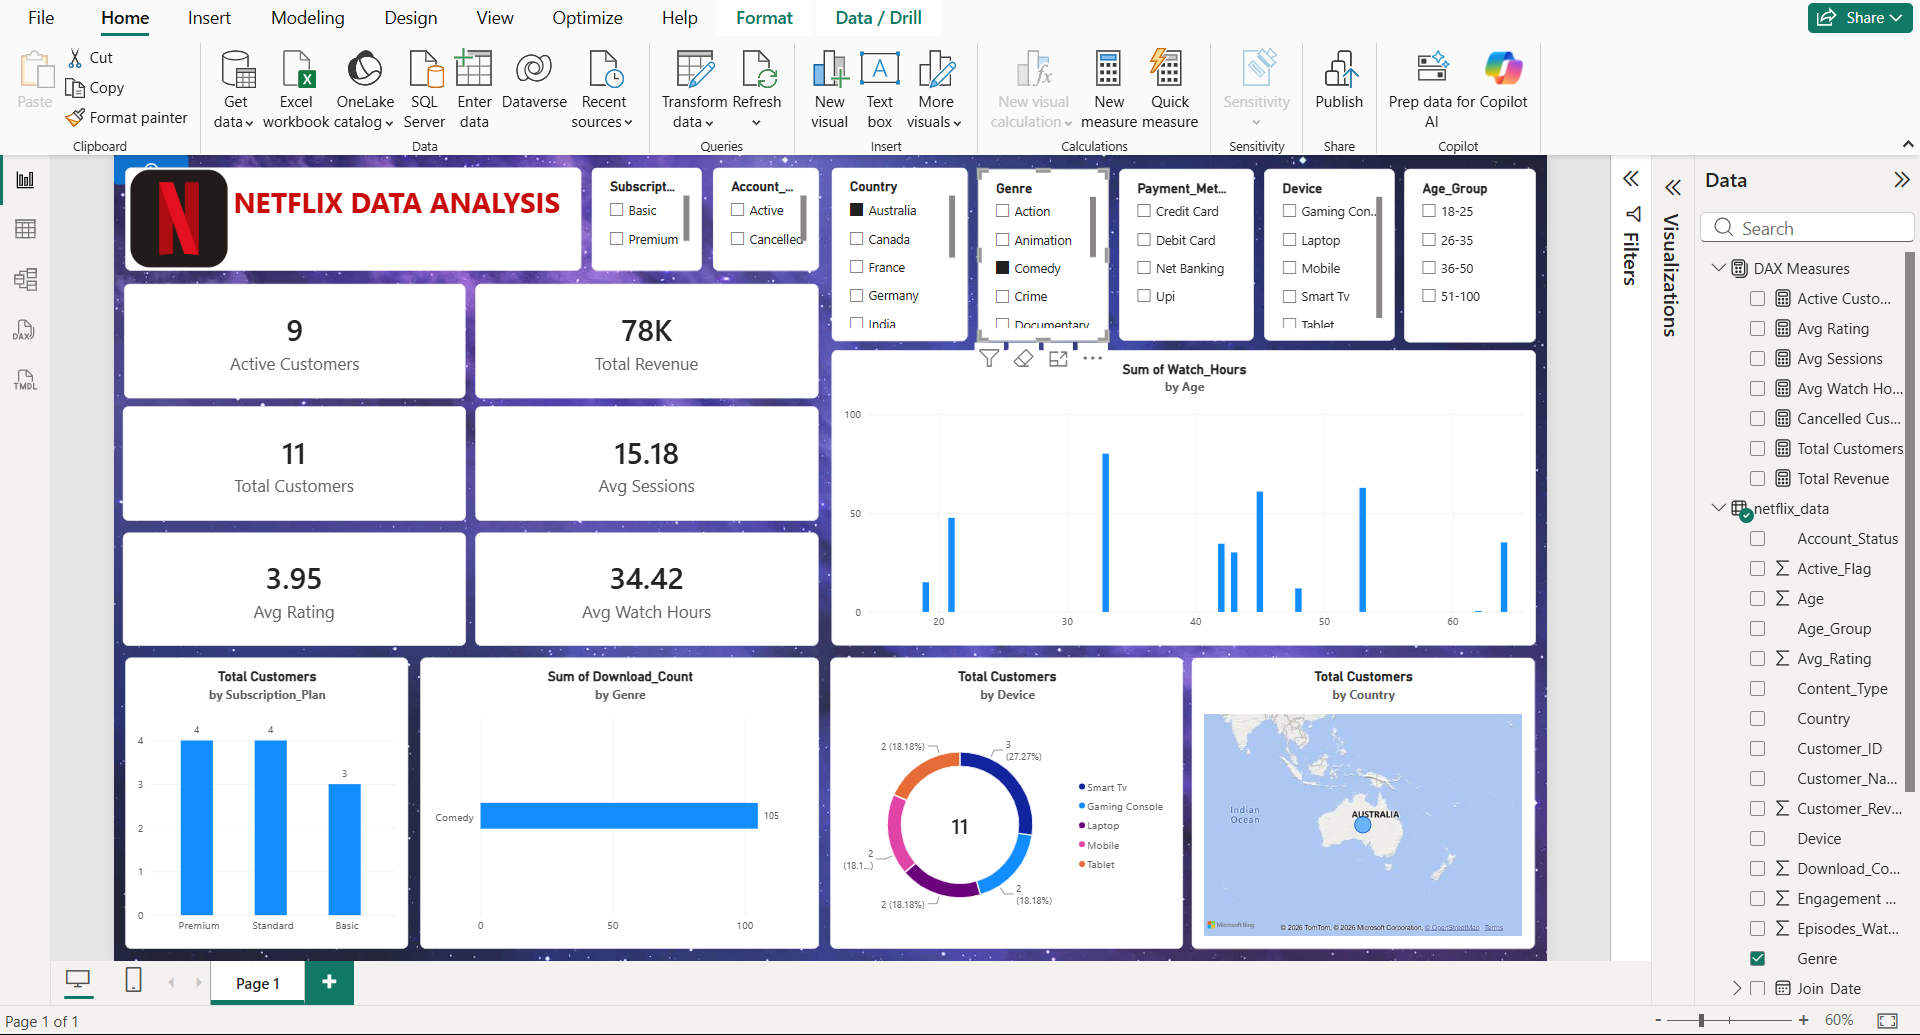

The dashboard page shown, as its layout file describes it:
{"tool":"powerbi","page":{"name":"Page 1","canvas":[1920,1080],"ordinal":0},"visuals":[{"type":"card","fields":{"Values":["DAX Measures.Total Revenue"]},"box":[484.6,173.1,459.6,153.8],"z":0},{"type":"card","fields":{"Values":["DAX Measures.Total Customers"]},"box":[11.5,336.5,459.6,153.8],"z":1000},{"type":"card","fields":{"Values":["DAX Measures.Active Customers"]},"box":[13.5,173.1,457.7,153.8],"z":2000},{"type":"actionButton","box":[0,0,100,40],"z":3000},{"type":"card","fields":{"Values":["DAX Measures.Avg Rating"]},"box":[11.5,505.8,459.6,151.9],"z":4000},{"type":"card","fields":{"Values":["DAX Measures.Avg Watch Hours"]},"box":[484.6,505.8,459.6,151.9],"z":5000},{"type":"clusteredColumnChart","fields":{"Category":["netflix_data.Age"],"Y":["Sum(netflix_data.Watch_Hours)"]},"box":[961.5,261.5,944.2,396.2],"z":6000},{"type":"slicer","fields":{"Values":["netflix_data.Country"]},"box":[961.5,17.3,182.7,232.7],"z":7000},{"type":"slicer","fields":{"Values":["netflix_data.Device"]},"box":[626.9,801.9,242.1,233.1],"z":8000},{"type":"slicer","fields":{"Values":["netflix_data.Subscription_Plan"]},"box":[640.4,17.3,148.1,138.5],"z":9000},{"type":"slicer","fields":{"Values":["netflix_data.Genre"]},"box":[1157.7,19.2,175,230.8],"z":10000},{"type":"slicer","fields":{"Values":["netflix_data.Account_Status"]},"box":[801.9,17.3,142.3,138.5],"z":11000},{"type":"columnChart","fields":{"Category":["netflix_data.Subscription_Plan"],"Y":["DAX Measures.Total Customers"]},"box":[15.4,673.1,378.8,390.4],"z":12000},{"type":"map","fields":{"Category":["netflix_data.Country"],"Size":["DAX Measures.Total Customers"]},"box":[1444.2,673.1,459.6,390.4],"z":13000},{"type":"barChart","fields":{"Category":["netflix_data.Genre"],"Y":["Sum(netflix_data.Download_Count)"]},"box":[409.6,673.1,534.6,390.4],"z":14000},{"type":"donutChart","fields":{"Category":["netflix_data.Device"],"Y":["DAX Measures.Total Customers"]},"box":[959.6,673.1,473.1,390.4],"z":15000},{"type":"slicer","fields":{"Values":["netflix_data.Age_Group"]},"box":[1728.8,19.2,176.9,232.7],"z":16000},{"type":"textbox","box":[15.4,17.3,611.5,138.5],"z":17000},{"type":"card","fields":{"Values":["DAX Measures.Avg Sessions"]},"box":[484.6,336.5,459.6,153.8],"z":18000},{"type":"slicer","fields":{"Values":["netflix_data.Payment_Method"]},"box":[1346.2,19.2,180.8,230.8],"z":19000},{"type":"image","box":[15.4,17.3,144.2,136.5],"z":20000},{"type":"slicer","fields":{"Values":["netflix_data.Device"]},"box":[1540.4,19.2,175,230.8],"z":21000}]}

Visuals, with their boxes on the page's 1920x1080 design canvas (x1, y1, x2, y2). These are canvas units, not pixel positions in the 1920x1035 screenshot, which may show the page scaled, cropped or inside an application window:
card - DAX Measures.Total Revenue: 485:173:944:327
card - DAX Measures.Total Customers: 12:336:471:490
card - DAX Measures.Active Customers: 14:173:471:327
actionButton: 0:0:100:40
card - DAX Measures.Avg Rating: 12:506:471:658
card - DAX Measures.Avg Watch Hours: 485:506:944:658
clusteredColumnChart - netflix_data.Age x Sum(netflix_data.Watch_Hours): 962:262:1906:658
slicer - netflix_data.Country: 962:17:1144:250
slicer - netflix_data.Device: 627:802:869:1035
slicer - netflix_data.Subscription_Plan: 640:17:788:156
slicer - netflix_data.Genre: 1158:19:1333:250
slicer - netflix_data.Account_Status: 802:17:944:156
columnChart - netflix_data.Subscription_Plan x DAX Measures.Total Customers: 15:673:394:1064
map - netflix_data.Country x DAX Measures.Total Customers: 1444:673:1904:1064
barChart - netflix_data.Genre x Sum(netflix_data.Download_Count): 410:673:944:1064
donutChart - netflix_data.Device x DAX Measures.Total Customers: 960:673:1433:1064
slicer - netflix_data.Age_Group: 1729:19:1906:252
textbox: 15:17:627:156
card - DAX Measures.Avg Sessions: 485:336:944:490
slicer - netflix_data.Payment_Method: 1346:19:1527:250
image: 15:17:160:154
slicer - netflix_data.Device: 1540:19:1715:250
